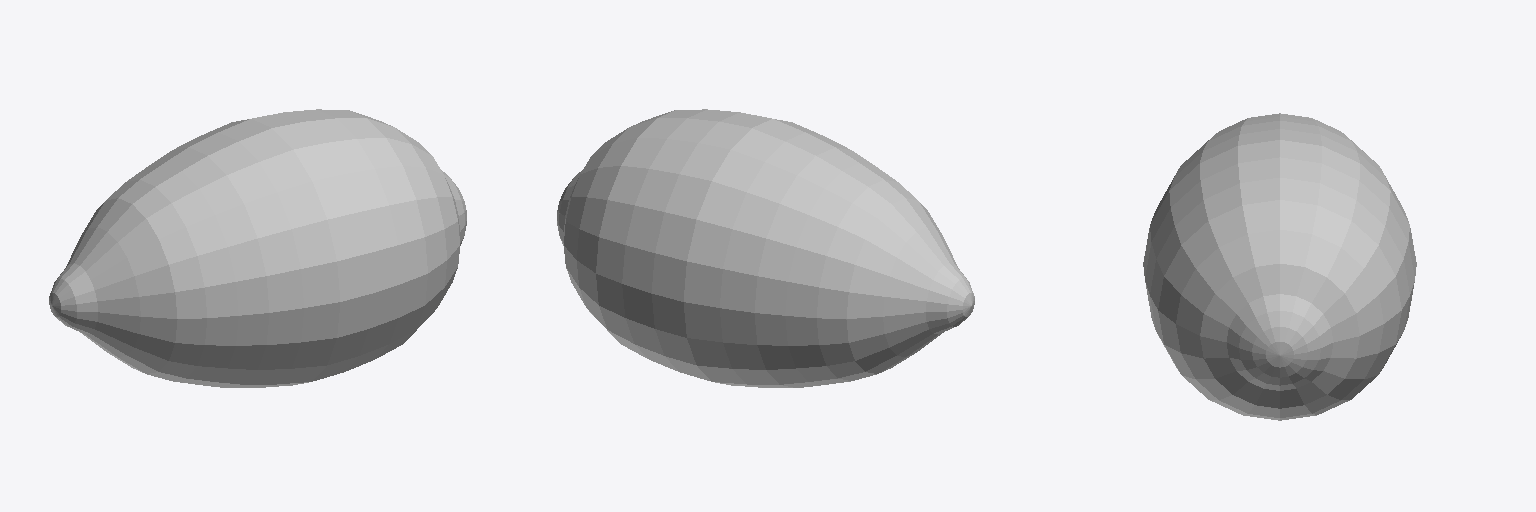
The model's file is lemon.obj.
3 renders of one model, left to right at view 1: azimuth 30°, elevation 25°; view 2: azimuth 150°, elevation 25°; view 3: azimuth 270°, elevation 25°, orthographic.
Parts seen in each view (by area): view 1: lemon; view 2: lemon; view 3: lemon.
Boxes of the visible parts, x1=… form: lemon: x1=49, y1=109, x2=466, y2=387; lemon: x1=557, y1=109, x2=974, y2=387; lemon: x1=1143, y1=113, x2=1416, y2=420.
Bounding box in the file's own units: 3.44 × 2 × 2.